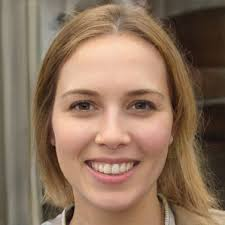person: (30, 2, 200, 213)
